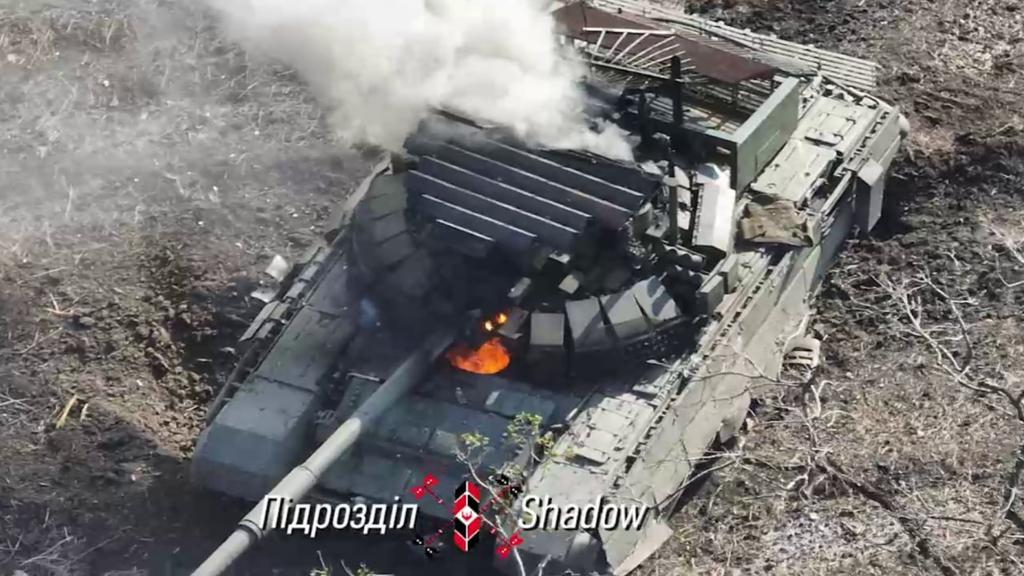TANK: (181, 1, 905, 574)
